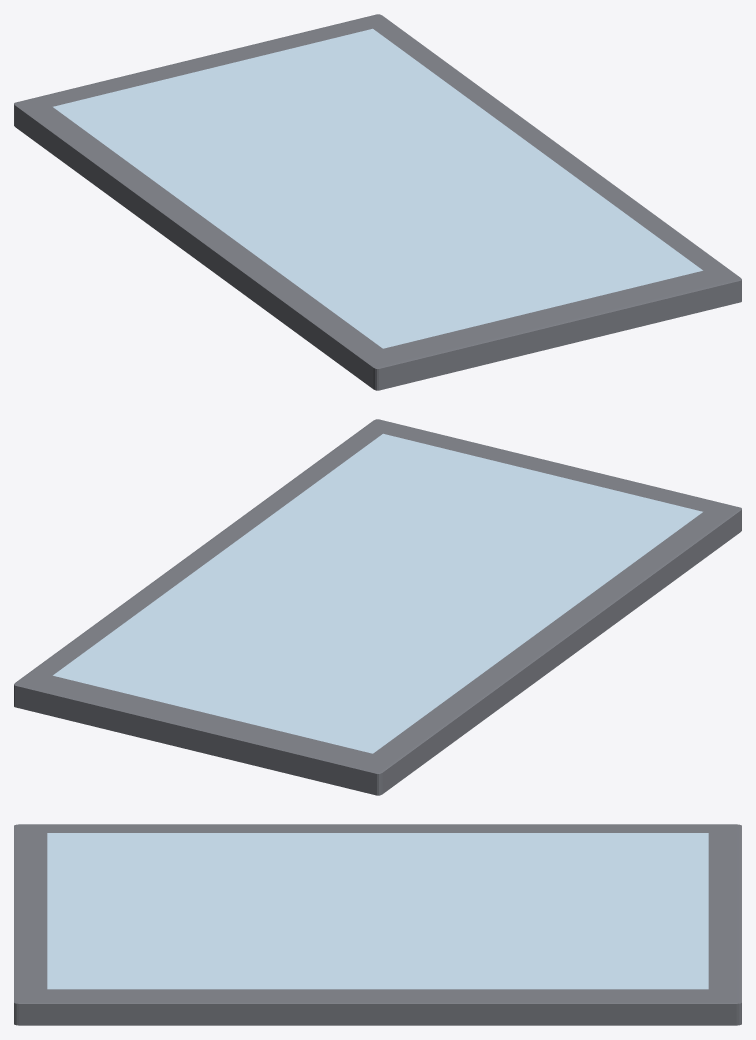
The model's file is mirror_panel.glb.
The picture shows the model from 3 angles, top to bottom: view 1: azimuth 30°, elevation 25°; view 2: azimuth 150°, elevation 25°; view 3: azimuth 270°, elevation 25°; orthographic projection.
Visible parts, largest first — view 1: mirror, frame; view 2: mirror, frame; view 3: mirror, frame.
Boxes of the visible parts, x1=… form: mirror: x1=53, y1=28, x2=702, y2=348; frame: x1=14, y1=14, x2=741, y2=390; mirror: x1=53, y1=433, x2=702, y2=753; frame: x1=14, y1=419, x2=741, y2=795; mirror: x1=47, y1=833, x2=708, y2=989; frame: x1=14, y1=824, x2=741, y2=1025.
Bounding box in the file's own units: 1.4 × 0.09 × 2.4.
